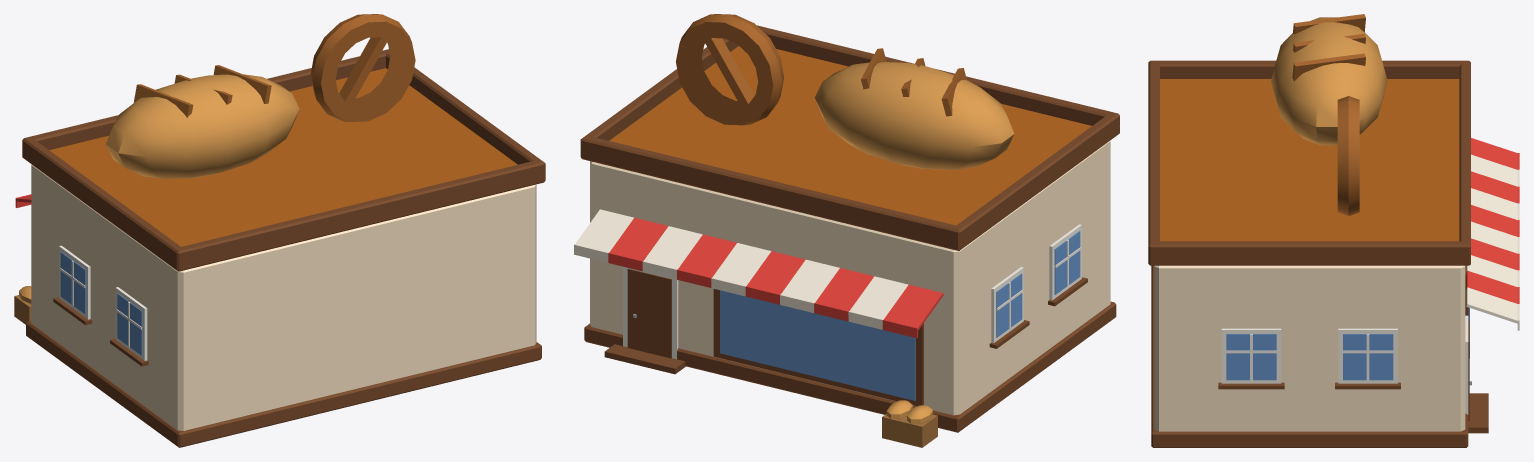
File: bld_bakery.glb
3 renders of one model, left to right at view 1: azimuth 30°, elevation 25°; view 2: azimuth 150°, elevation 25°; view 3: azimuth 270°, elevation 25°, orthographic. The views are drawn at different scales.
Parts seen in each view (by area): view 1: bld_bakery; view 2: bld_bakery; view 3: bld_bakery.
Part boxes in pixels (bbox=[...]): bld_bakery: bbox=[14, 14, 545, 447]; bld_bakery: bbox=[574, 14, 1119, 447]; bld_bakery: bbox=[1148, 14, 1519, 447].
Bounding box in the file's own units: 11.42 × 8.72 × 9.55.
